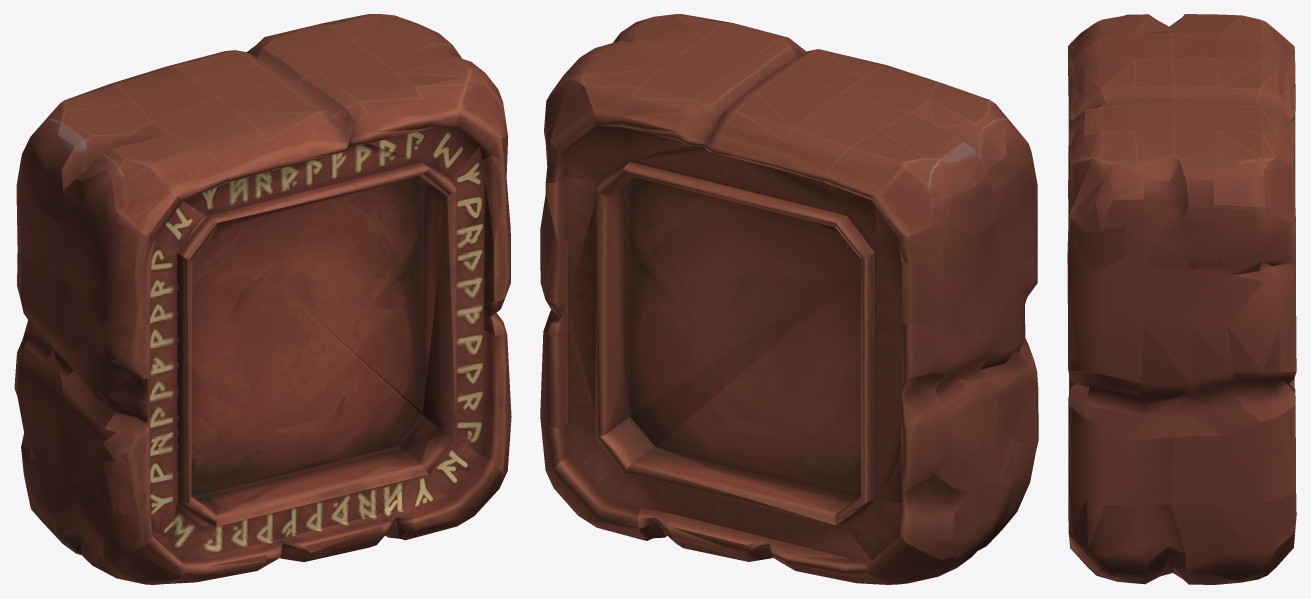
Rendered from StoneTile_Default.glb.
3 views of the same model, side by side, from view 1: azimuth 30°, elevation 25°; view 2: azimuth 150°, elevation 25°; view 3: azimuth 270°, elevation 25° (orthographic). The views are drawn at different scales.
Parts seen in each view (by area): view 1: mesh_node; view 2: mesh_node; view 3: mesh_node.
Boxes of the visible parts, x1,y1,x2,y2 form: mesh_node: (14,14,511,584); mesh_node: (540,14,1038,584); mesh_node: (1067,14,1296,584).
Bounding box in the file's own units: 0.9707 × 1 × 0.4902.
1 material, 1 textured.
